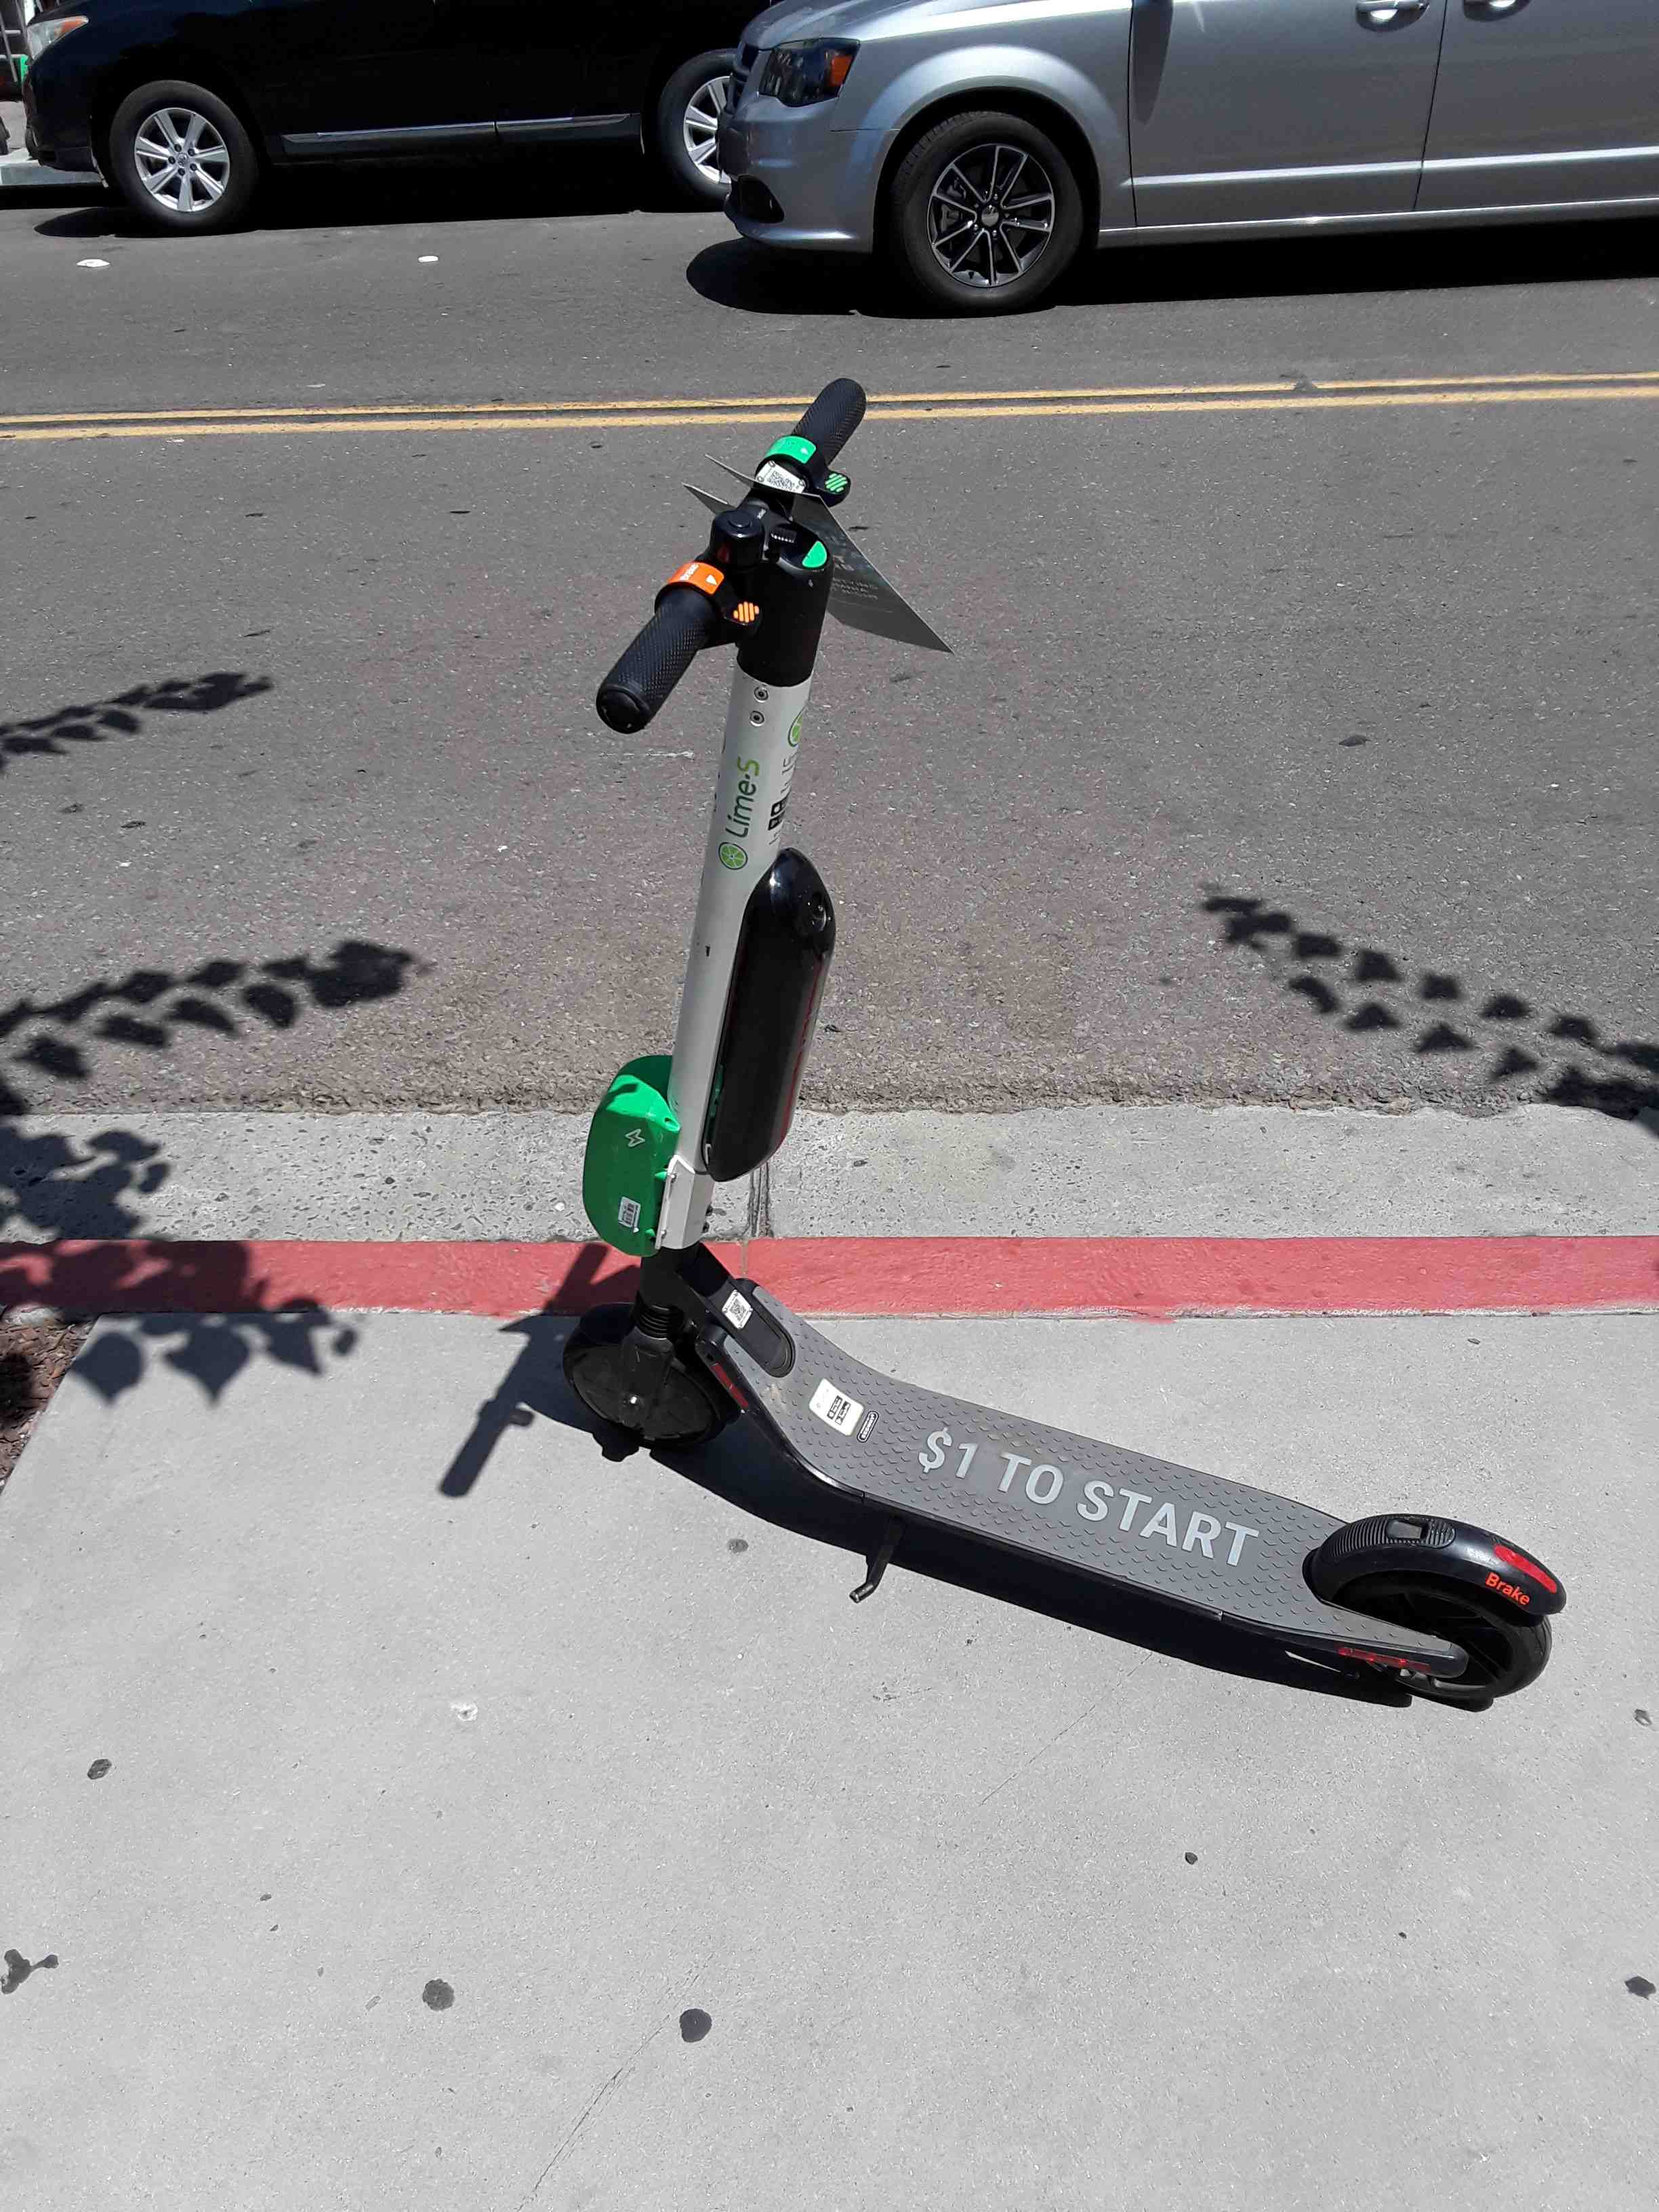scooter: (545, 334, 1589, 1745)
